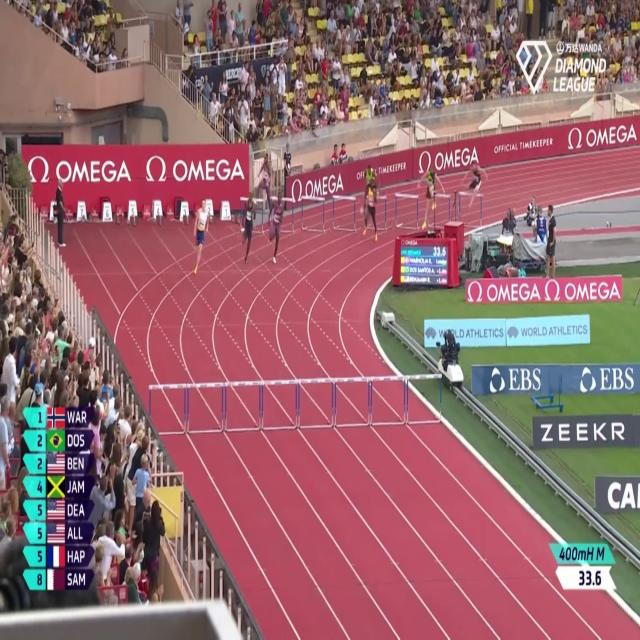athlete: (193, 188, 215, 272), (462, 155, 491, 215), (418, 160, 442, 232), (267, 188, 287, 262), (238, 188, 256, 268), (256, 151, 276, 215), (362, 180, 380, 248), (359, 160, 382, 206)
hurdle: (148, 378, 186, 442), (334, 372, 373, 433), (186, 376, 226, 433), (224, 378, 262, 434), (371, 371, 408, 428), (406, 370, 444, 425), (297, 375, 335, 429), (262, 377, 298, 427), (300, 193, 328, 236), (394, 191, 420, 236), (456, 188, 482, 231), (241, 196, 267, 234), (332, 191, 357, 230), (269, 195, 294, 234), (365, 194, 388, 233), (430, 190, 449, 227)
